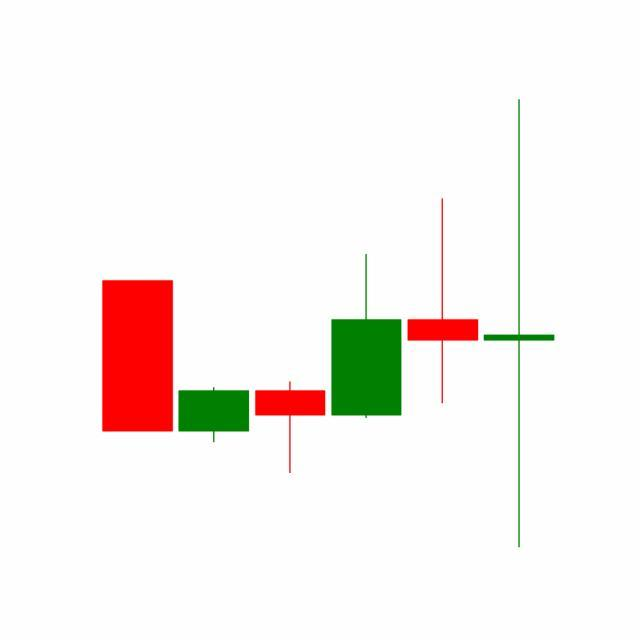Spinning Top: (404, 197, 482, 407)
